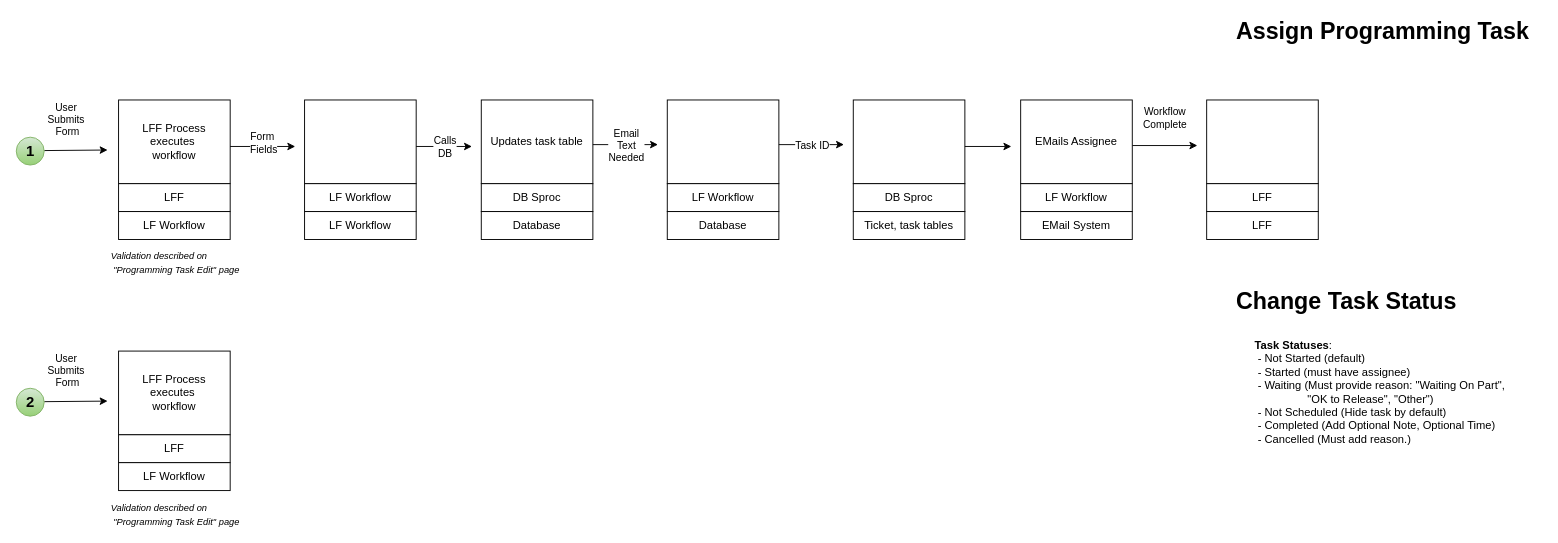
Image size: 1558x543. Some labels were removed from this diagram. Each missing label, with the centre of its shape:
Calls Database Sproc to generate email text: (x=722, y=141)
Email Text Generated based on Task ID: (x=908, y=141)
Gathers form fields: (x=360, y=141)
Task Detail form closes, refreshes parent form: (x=1262, y=141)
